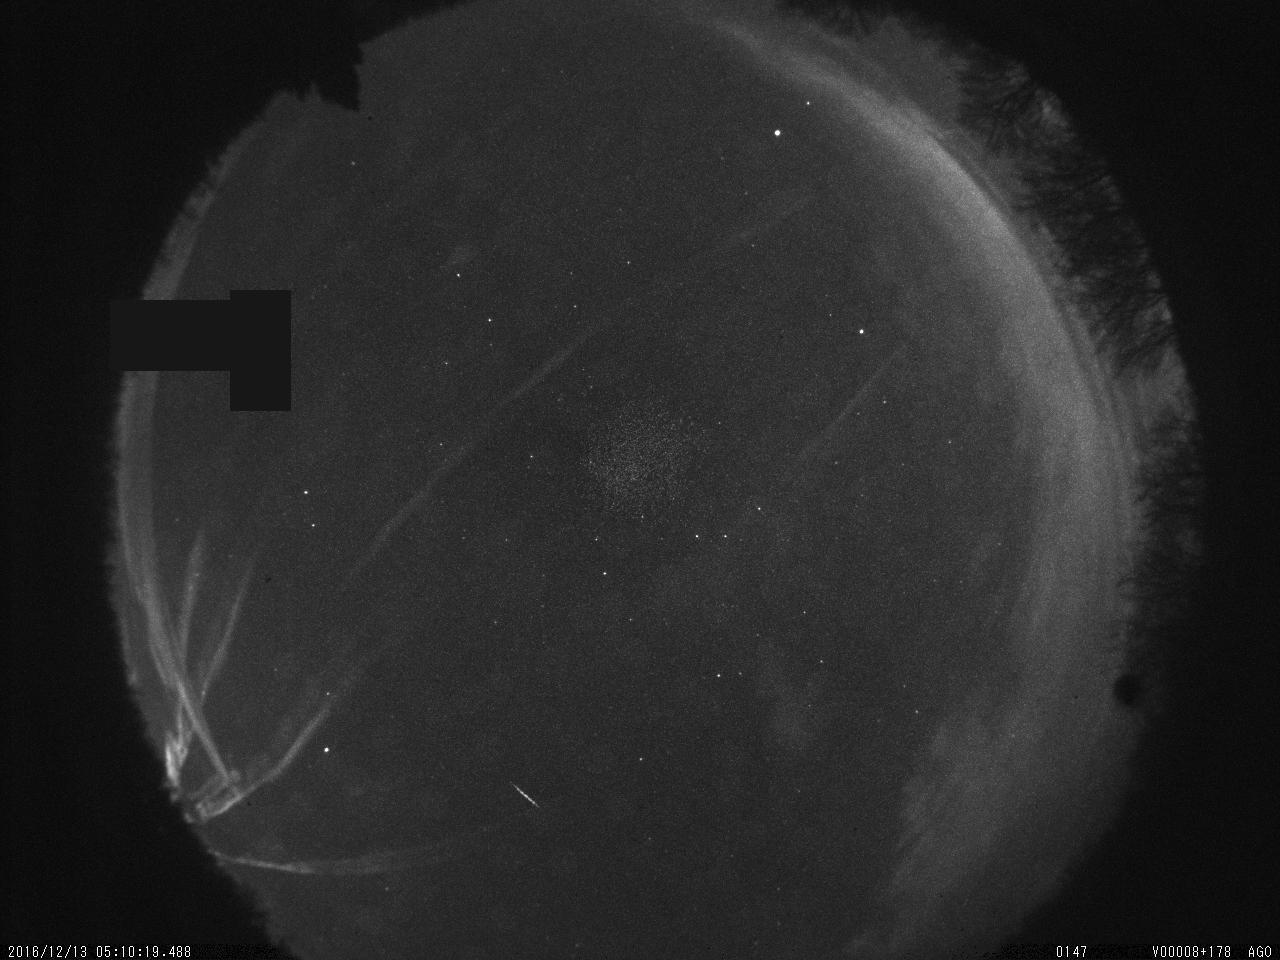meteor: (502, 769, 549, 821)
